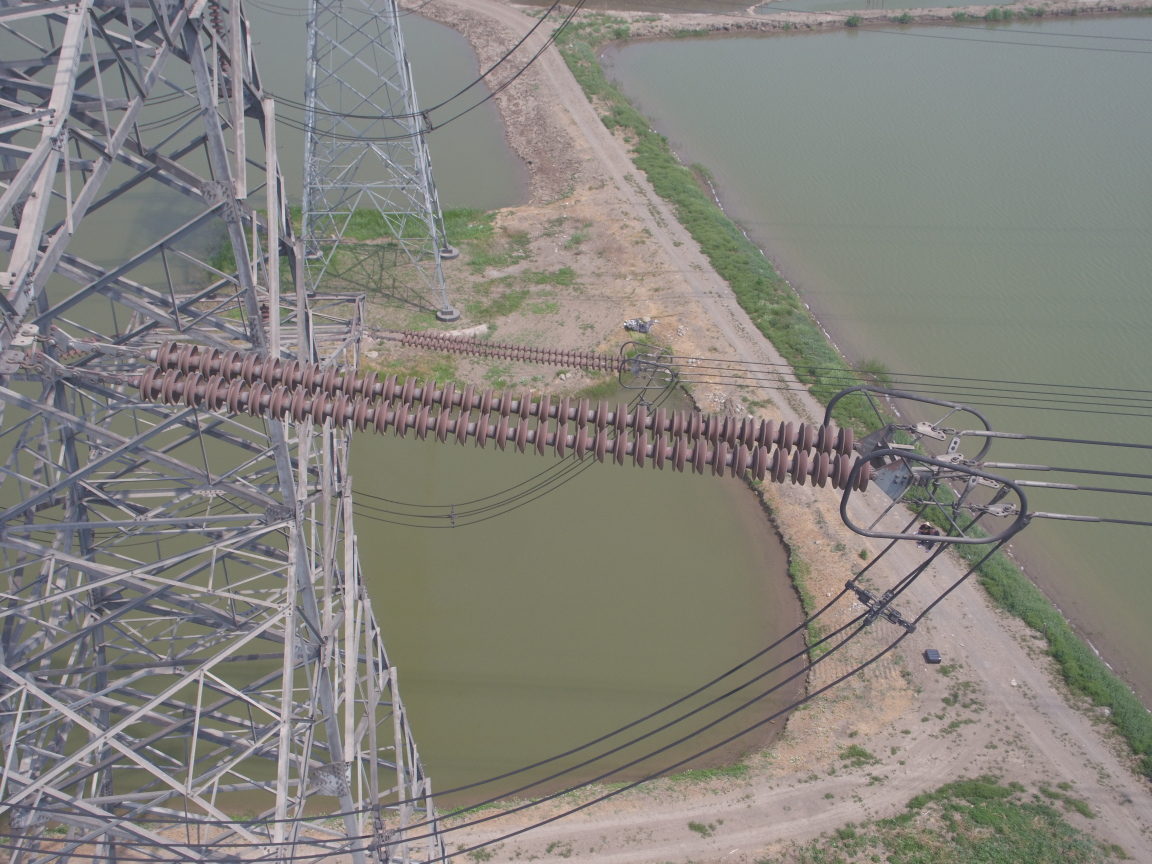insulator: (100, 332, 883, 494), (390, 330, 633, 376)
